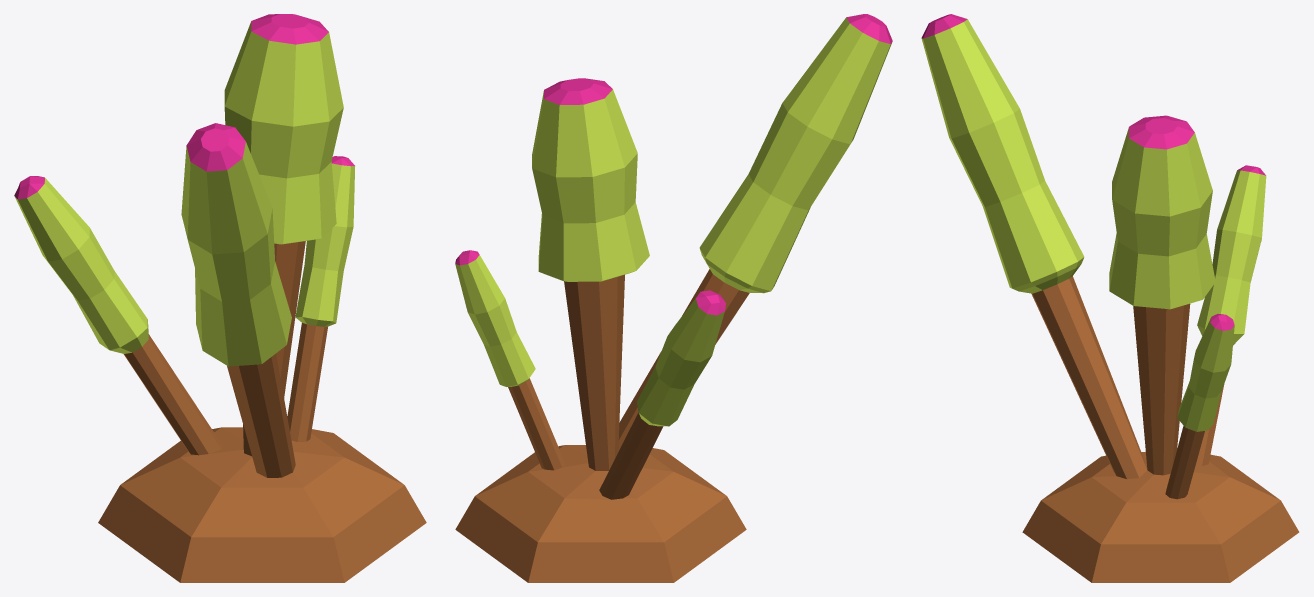
File: kust_1.glb
3 views of the same model, side by side, from view 1: azimuth 30°, elevation 25°; view 2: azimuth 150°, elevation 25°; view 3: azimuth 270°, elevation 25° (orthographic). The views are drawn at different scales.
Parts seen in each view (by area): view 1: model; view 2: model; view 3: model.
Part boxes in pixels (x1,y1,x2,y2): model: (14, 14, 426, 582); model: (455, 14, 892, 582); model: (921, 14, 1299, 582).
Bounding box in the file's own units: 2.29 × 3.55 × 2.73.
